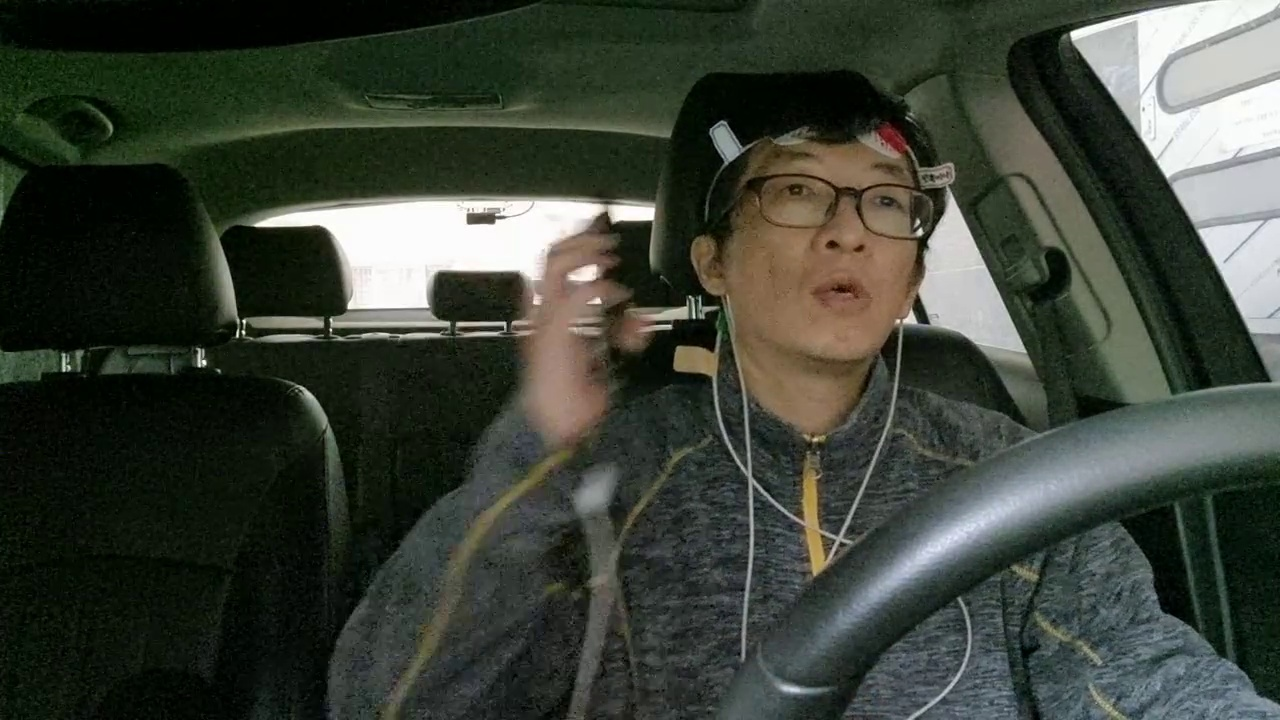phone: (519, 180, 684, 391)
